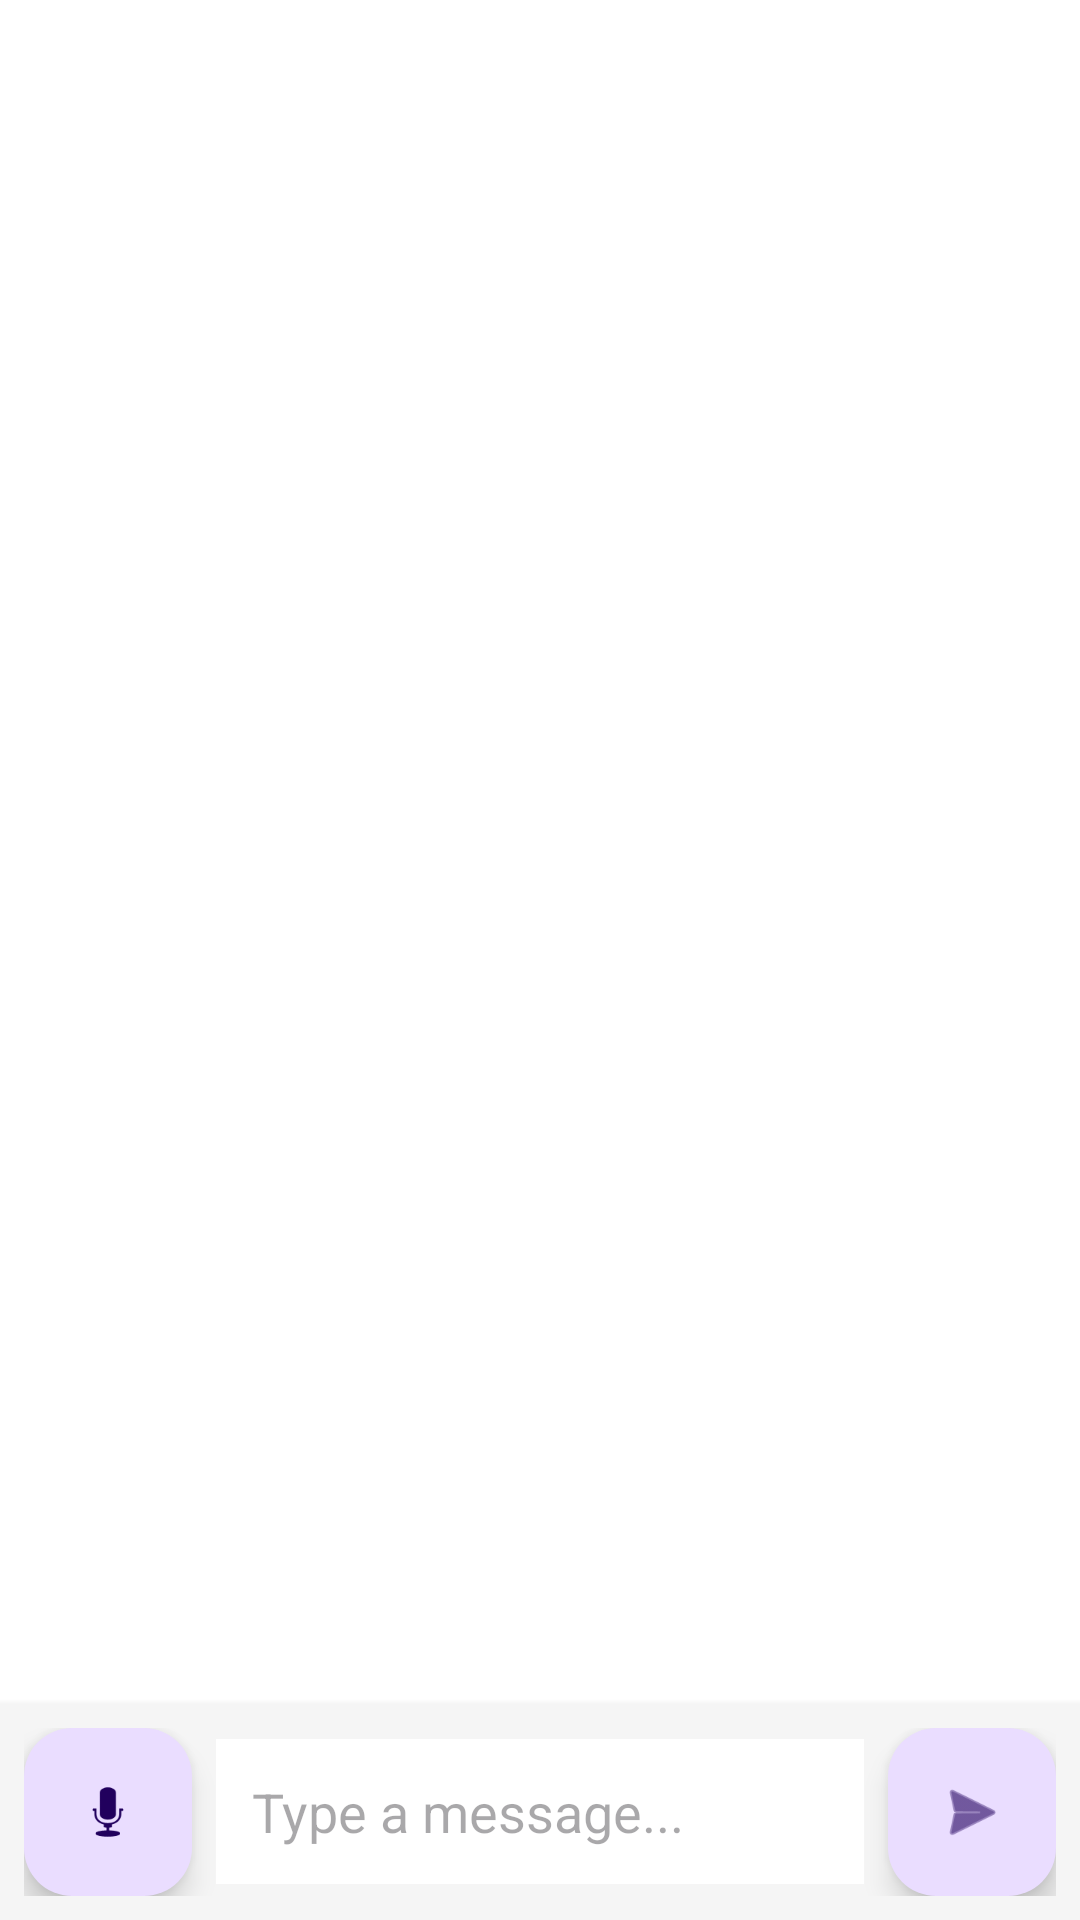

Named icons in this screenshot (1080×1920) and their centers, [x,y]:
Record audio: [108,1812]
Send to agent: [972,1812]
